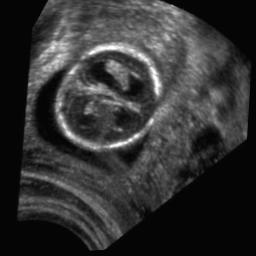abnormal: (34, 22, 183, 173)
